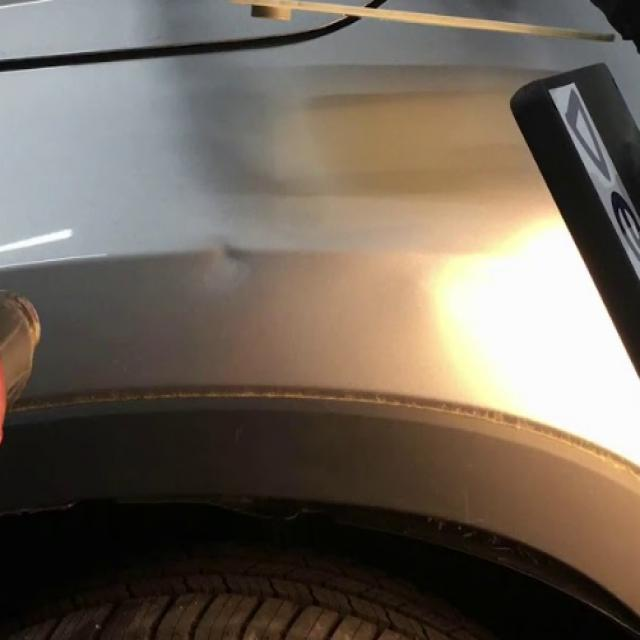dents: (203, 221, 279, 318)
